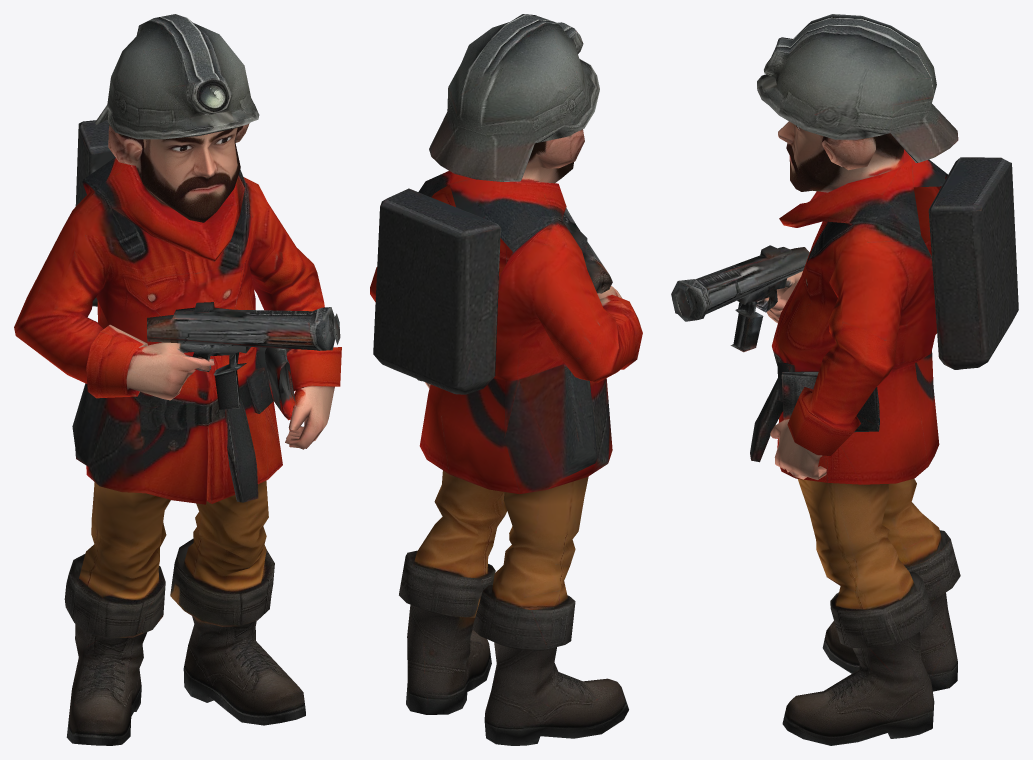
The model's file is rival-mountains.glb.
3 views of the same model, side by side, from view 1: azimuth 30°, elevation 25°; view 2: azimuth 150°, elevation 25°; view 3: azimuth 270°, elevation 25° (orthographic). The views are drawn at different scales.
Bounding box in the file's own units: 0.3936 × 0.9526 × 0.4438.
1 material, 1 textured.
